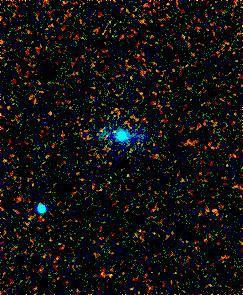star: (87, 116, 117, 146)
